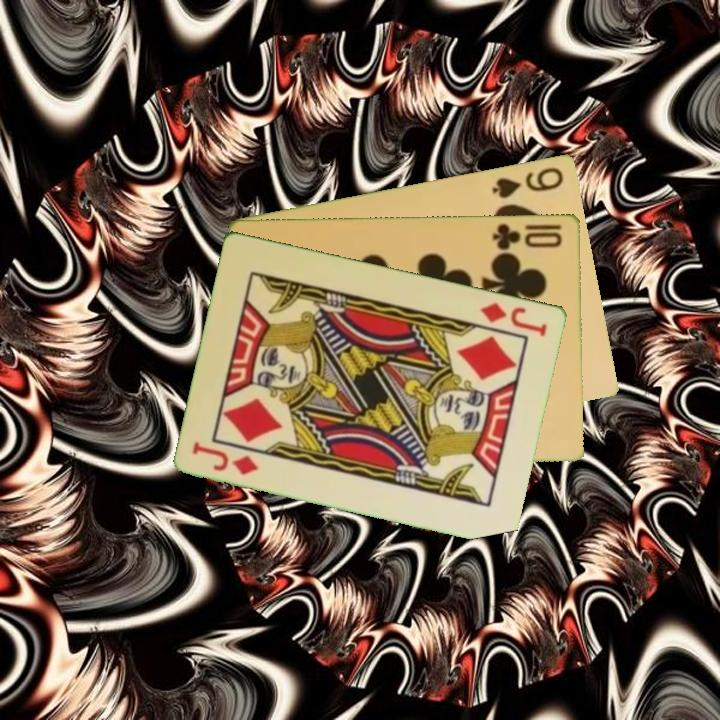10c: (489, 220, 565, 253)
9s: (488, 163, 567, 201)
Jd: (478, 298, 551, 339), (189, 437, 262, 478)
